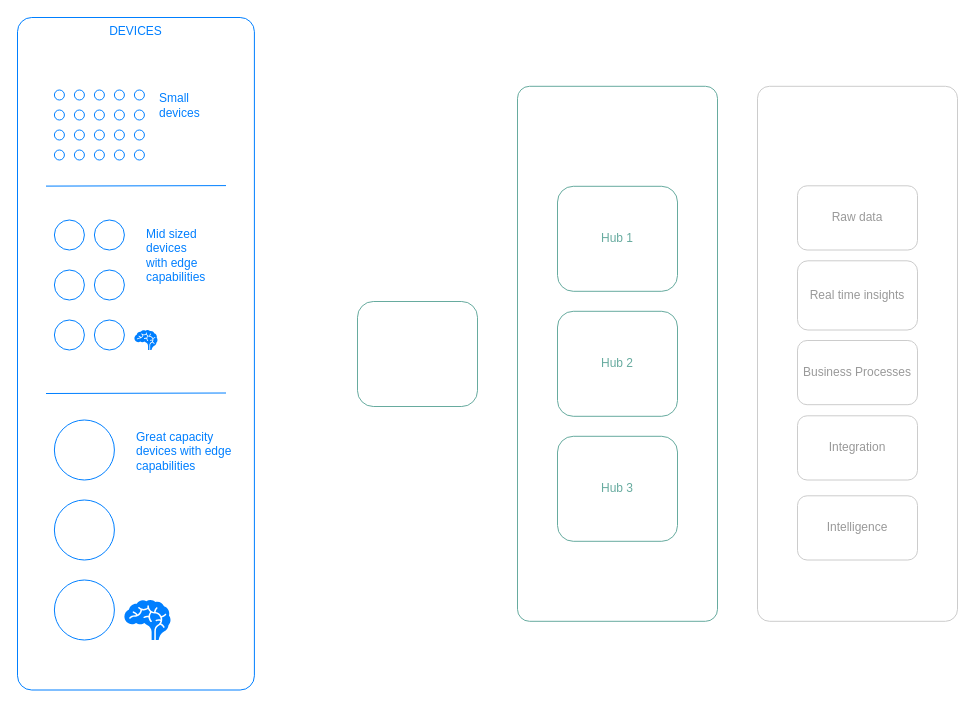
Some shapes in this 975 by 708 pixel diagram are drawn without their labels. Each missing label, with the box of its shape:
DATA, PROCESSING, BUSINESS LOGICS: (756, 85, 958, 621)
GATEWAY AND OPERATIONS: (516, 85, 718, 621)
Provisioning and Identity: (356, 300, 478, 406)
